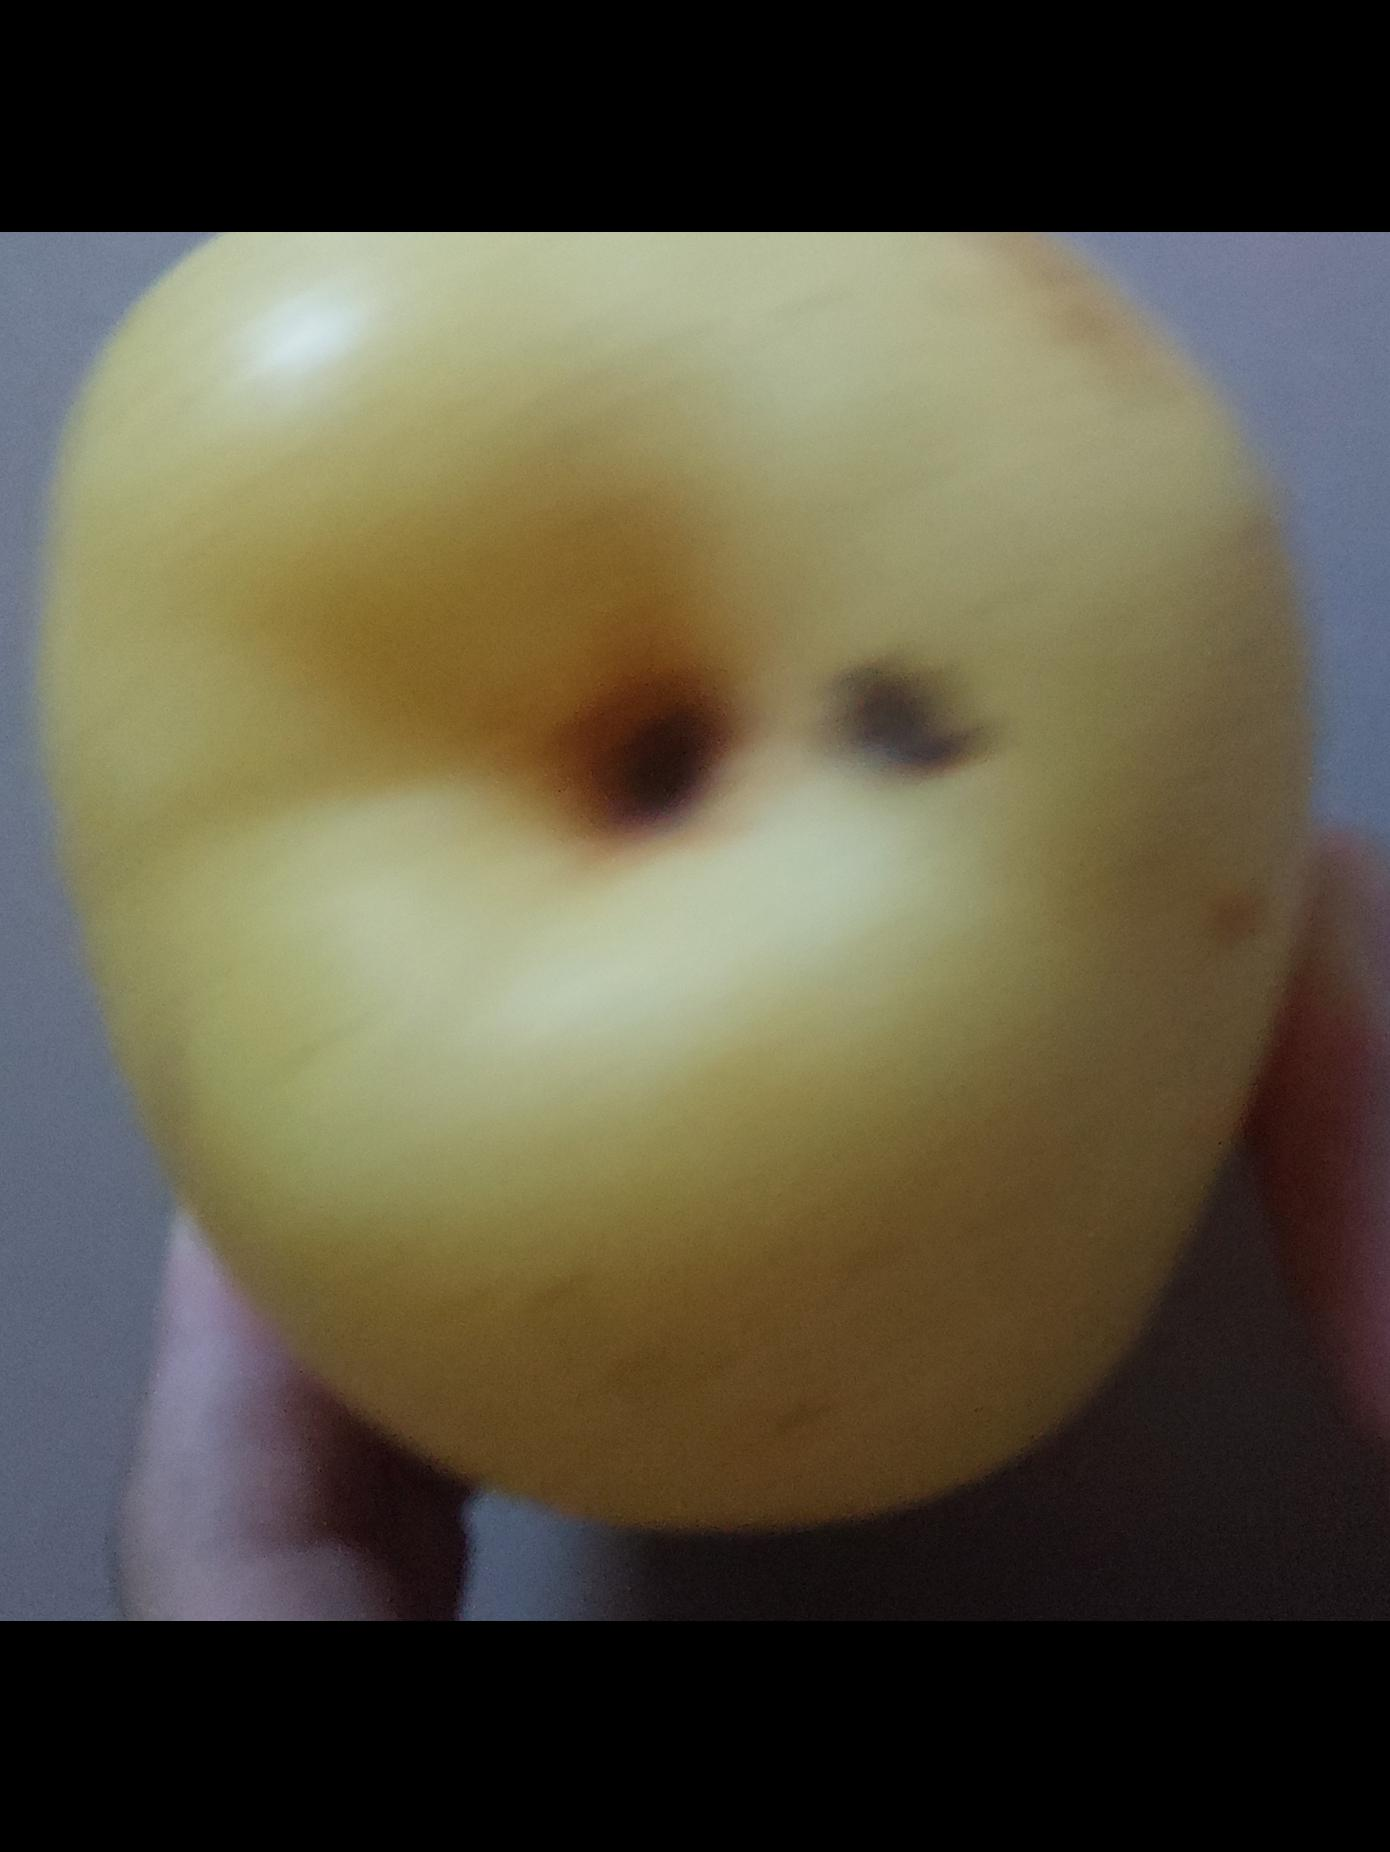Good Pear: (23, 231, 1295, 1521)
